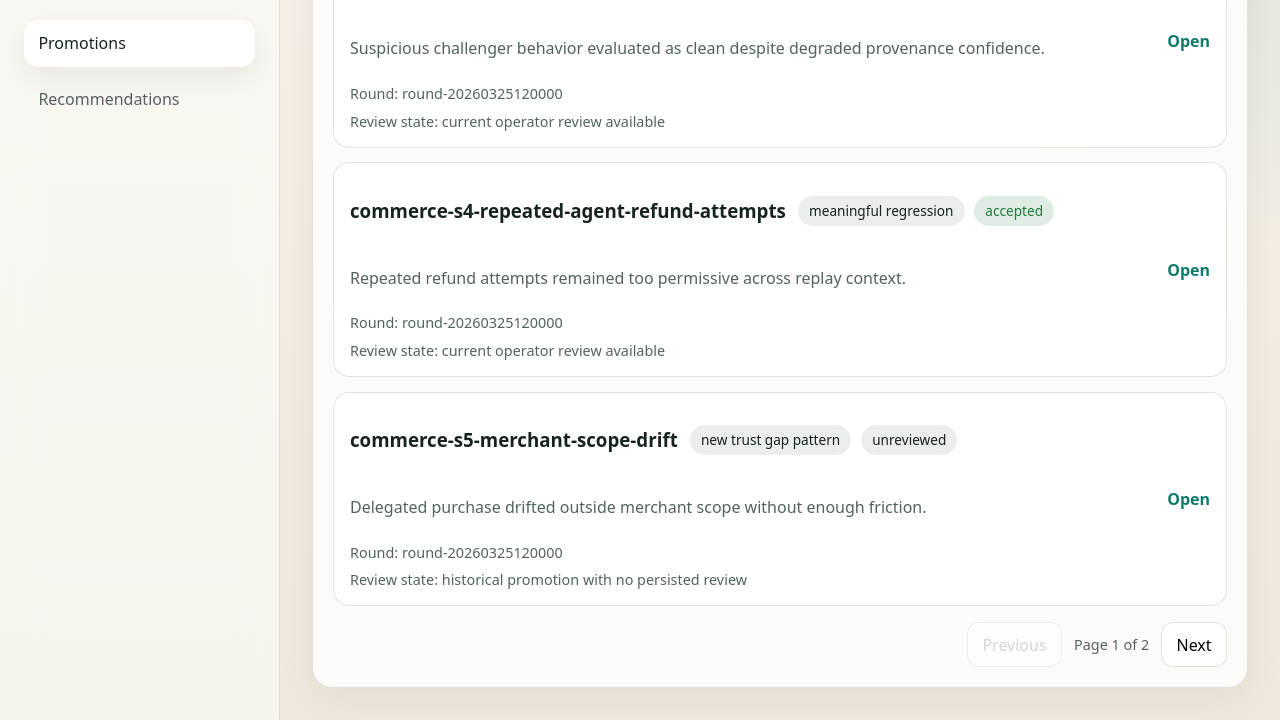
promotions page renders all promotions with paging and historical review visibility
The width and height of the screenshot is (1280, 720).
(page scrolled)
Expected: the text "Suspicious challenger behavior evaluated as clean despite degraded provenance confidence." is shown, [350, 37, 1045, 59]
Expected: the text "Page 1 of 2" is shown, [1074, 635, 1149, 654]
Click the button "Next": (1194, 645) [1161, 622, 1227, 667]
(page scrolled)
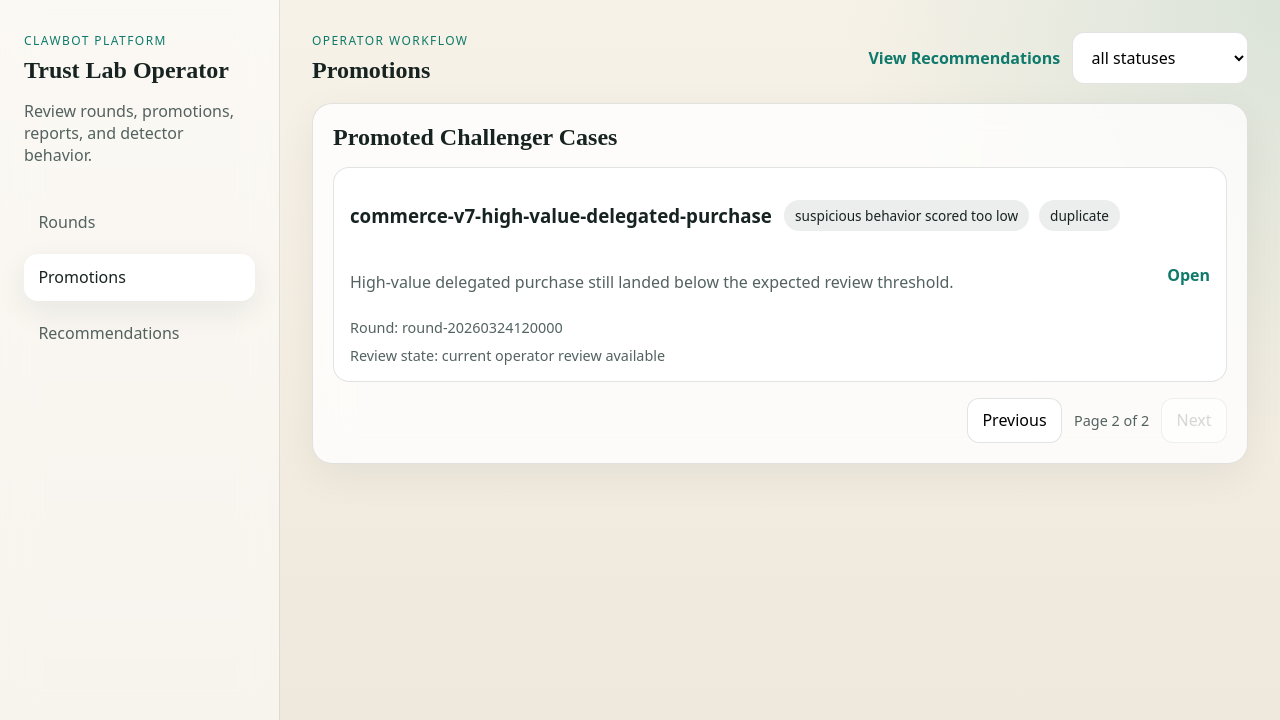
Expected: the text "Review state: current operator review available" is shown, [350, 346, 665, 365]
Expected: the text "Page 2 of 2" is shown, [1074, 411, 1149, 430]
Expected: the heading "commerce-v7-high-value-delegated-purchase" is shown, [350, 203, 772, 228]
